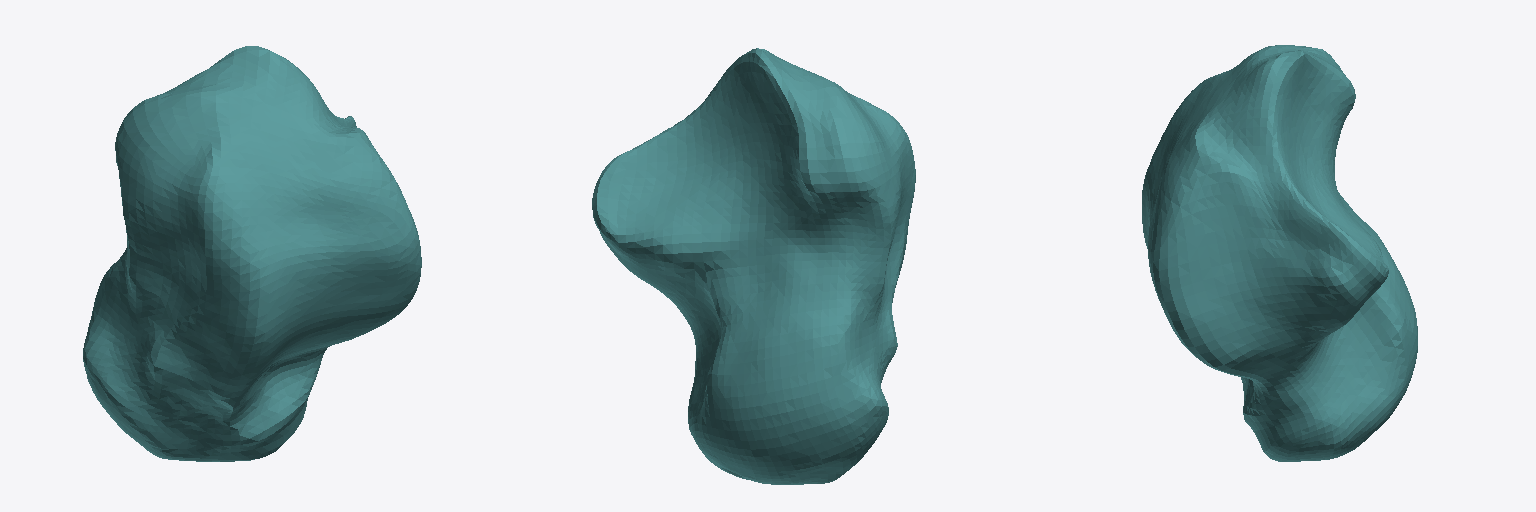
The model's file is Talus.obj.
The picture shows the model from 3 angles: view 1: azimuth 30°, elevation 25°; view 2: azimuth 150°, elevation 25°; view 3: azimuth 270°, elevation 25°; orthographic projection.
Visible parts, largest first — view 1: Object_0Talus; view 2: Object_0Talus; view 3: Object_0Talus.
Part boxes in pixels (x1,y1,x2,y2): Object_0Talus: (83, 46, 421, 461); Object_0Talus: (592, 48, 915, 484); Object_0Talus: (1142, 45, 1417, 461).
Size of the model in its own units: 49.97 by 69.12 by 42.42.